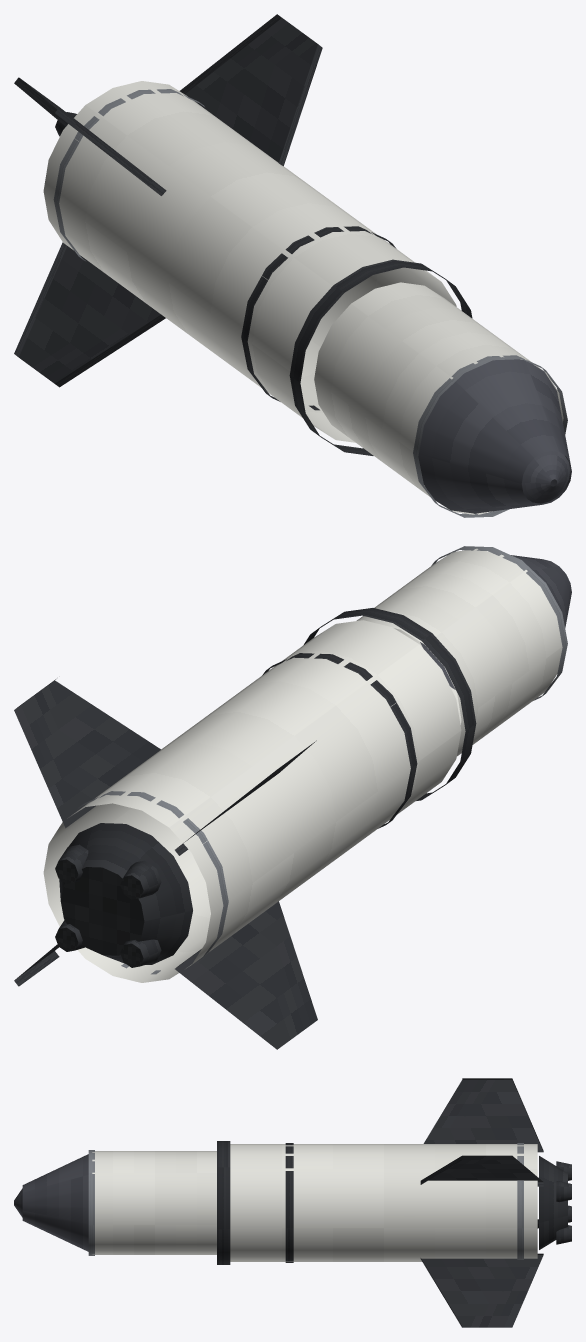
The model's file is missile_operational_kinetic.glb.
3 renders of one model, top to bottom at view 1: azimuth 30°, elevation 25°; view 2: azimuth 150°, elevation 25°; view 3: azimuth 270°, elevation 25°, orthographic. The views are drawn at different scales.
Visible parts, largest first — view 1: body; view 2: body; view 3: body.
Boxes of the visible parts, <box> form: body: <box>14,14,571,517</box>; body: <box>14,546,571,1049</box>; body: <box>14,1078,571,1327</box>.
Bounding box in the file's own units: 1.44 × 1.44 × 4.23.
1 material, 1 textured.
